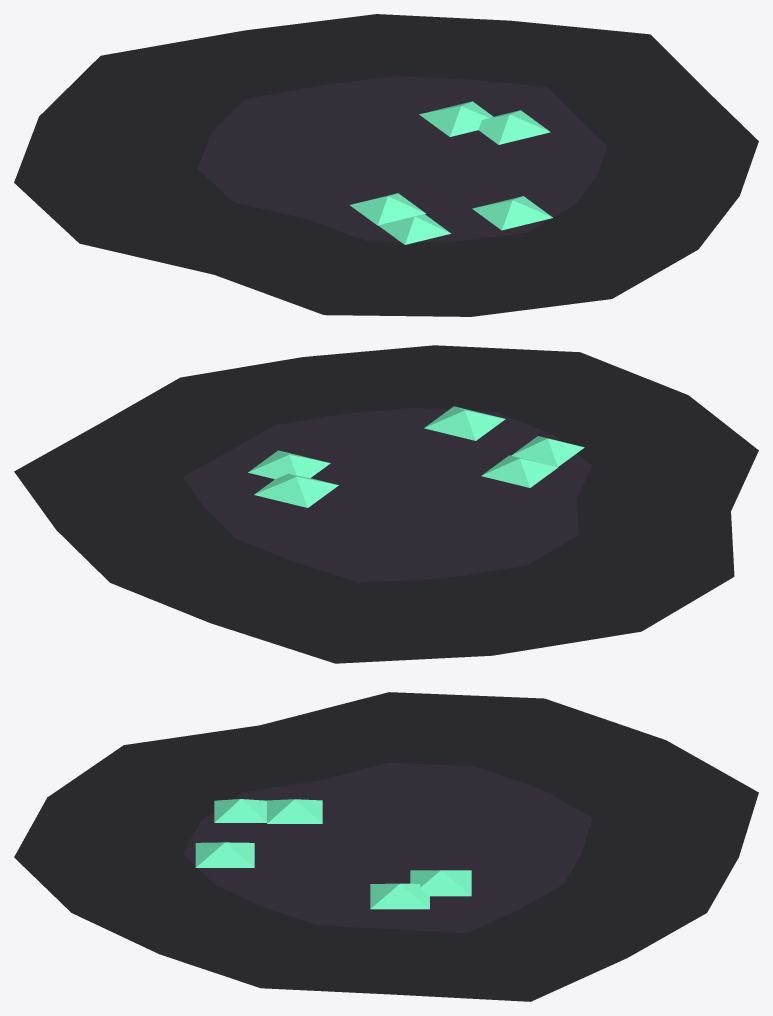
The model's file is rot_pool.glb.
3 views of the same model, one above another, from view 1: azimuth 30°, elevation 25°; view 2: azimuth 150°, elevation 25°; view 3: azimuth 270°, elevation 25° (orthographic). The views are drawn at different scales.
Parts seen in each view (by area): view 1: rot_pool; view 2: rot_pool; view 3: rot_pool.
Boxes of the visible parts, <box> form: rot_pool: <box>14,14,758,316</box>; rot_pool: <box>14,345,758,663</box>; rot_pool: <box>14,692,758,1001</box>.
Bounding box in the file's own units: 1.79 × 0.05 × 1.82.
1 material, 1 textured.
